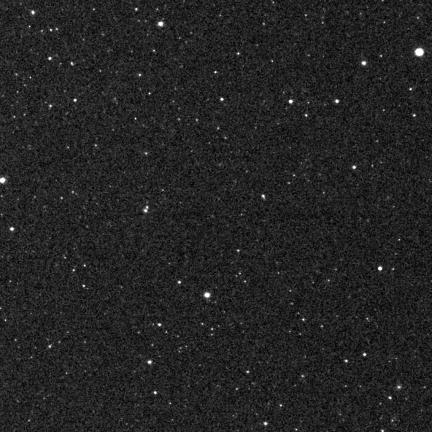blob: (415, 48, 423, 56), (204, 292, 211, 299), (158, 22, 164, 27), (378, 266, 383, 272), (362, 61, 366, 66)
